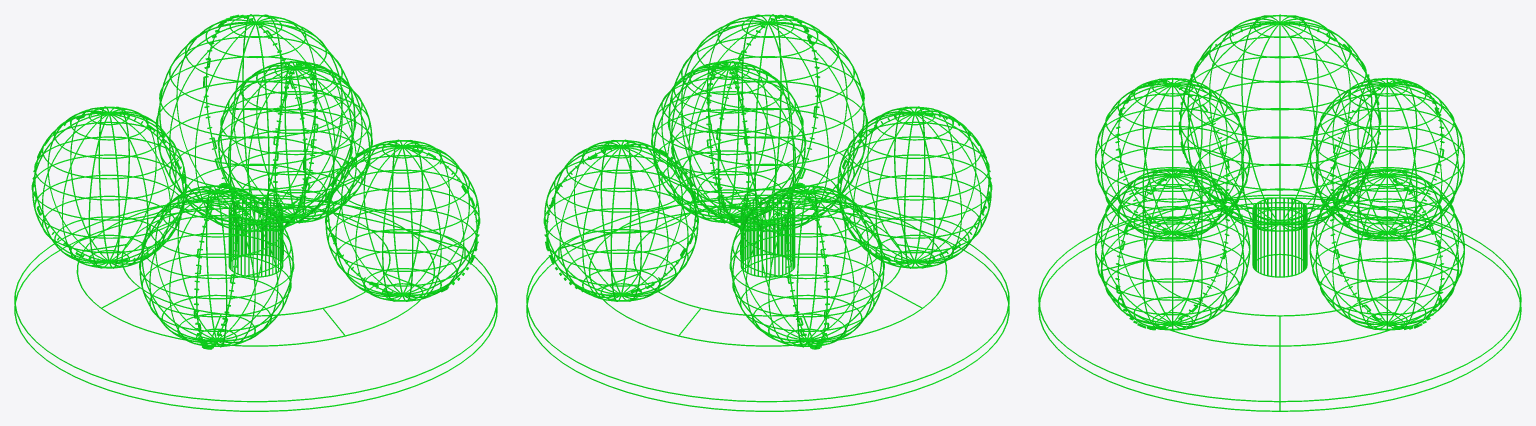
File: asteroid-engines-wireframe.glb
3 renders of one model, left to right at view 1: azimuth 30°, elevation 25°; view 2: azimuth 150°, elevation 25°; view 3: azimuth 270°, elevation 25°, orthographic.
Visible parts, largest first — view 1: opposing-generator-pairs technical wire, central-gravitic-reactor technical wire, fixed-asteroid-mount technical wire, chassis technical wire; view 2: opposing-generator-pairs technical wire, central-gravitic-reactor technical wire, fixed-asteroid-mount technical wire, chassis technical wire; view 3: opposing-generator-pairs technical wire, central-gravitic-reactor technical wire, fixed-asteroid-mount technical wire, chassis technical wire.
Part boxes in pixels (x1,y1,x2,y2): opposing-generator-pairs technical wire: [31, 61, 480, 349]; central-gravitic-reactor technical wire: [155, 14, 356, 232]; fixed-asteroid-mount technical wire: [14, 194, 497, 411]; chassis technical wire: [228, 197, 283, 277]; opposing-generator-pairs technical wire: [543, 61, 992, 349]; central-gravitic-reactor technical wire: [667, 14, 868, 232]; fixed-asteroid-mount technical wire: [526, 194, 1009, 411]; chassis technical wire: [740, 197, 795, 277]; opposing-generator-pairs technical wire: [1095, 77, 1464, 330]; central-gravitic-reactor technical wire: [1178, 14, 1381, 232]; fixed-asteroid-mount technical wire: [1038, 194, 1521, 411]; chassis technical wire: [1252, 197, 1307, 277].
Bounding box in the file's own units: 2.71 × 1.78 × 2.71.
